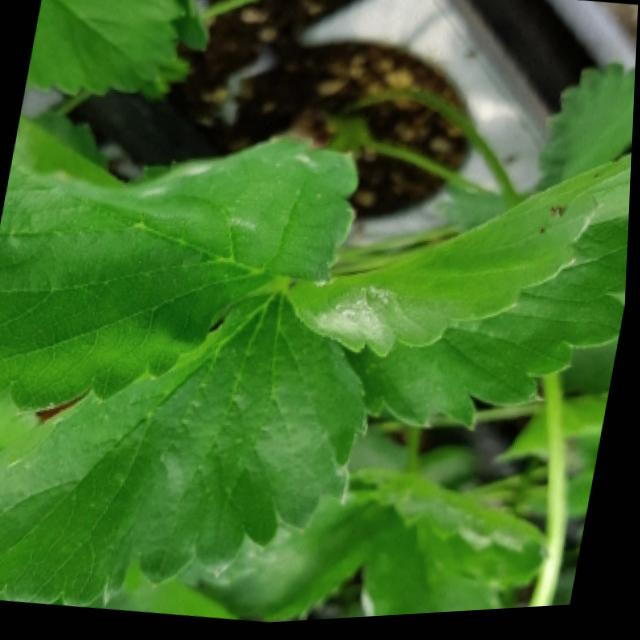Powdery Mildew Leaf: (0, 113, 363, 413), (292, 156, 633, 437)
